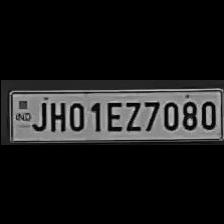0: (64, 98, 86, 132), (158, 97, 180, 130), (197, 96, 217, 130)
1: (85, 98, 102, 132)
7: (140, 97, 158, 130)
8: (178, 96, 198, 130)
E: (102, 97, 122, 131)
H: (45, 97, 65, 131)
J: (30, 97, 46, 130)
Z: (122, 97, 142, 131)
